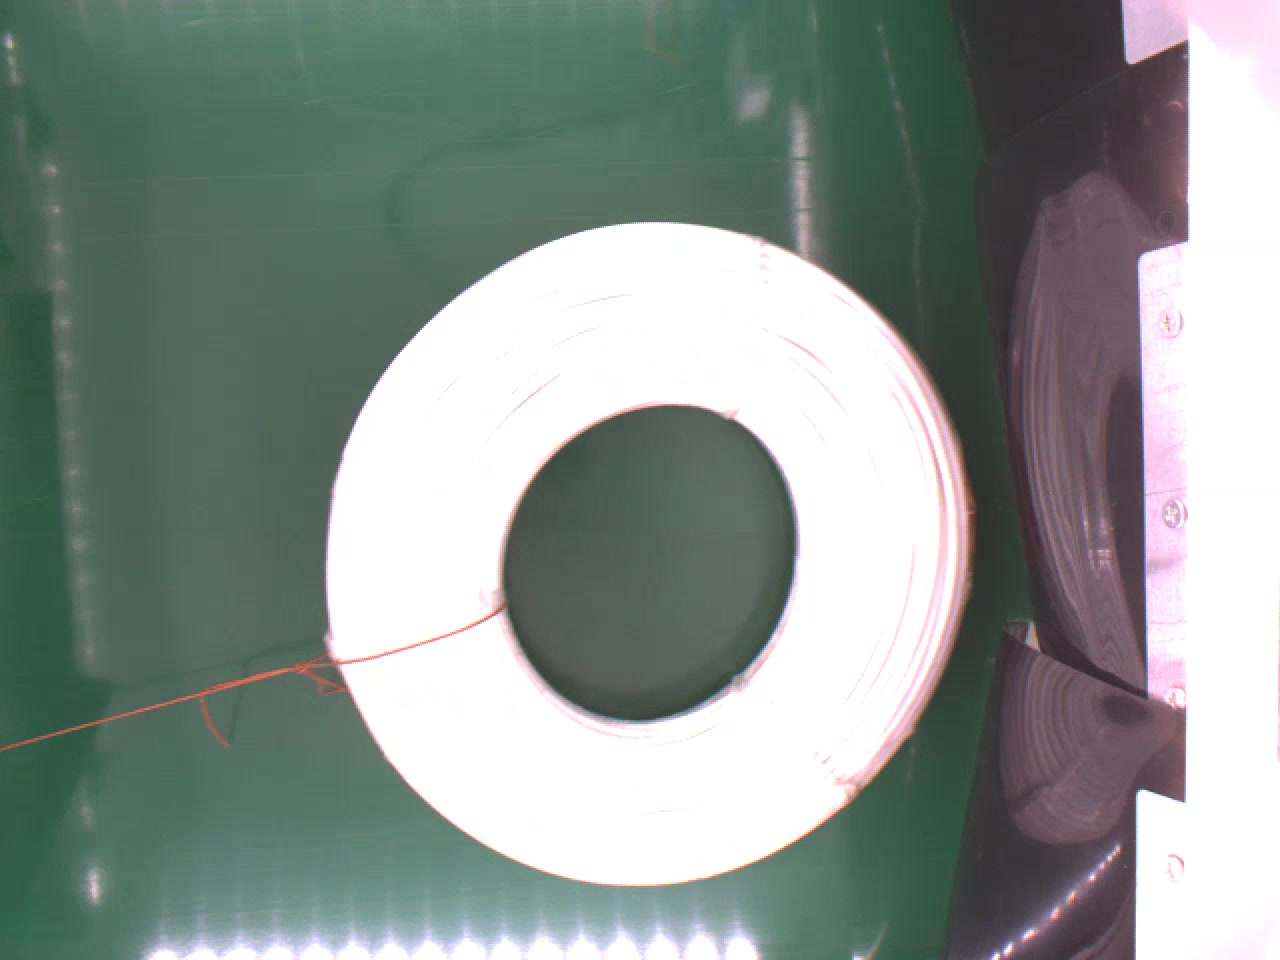white: (321, 213, 972, 884)
